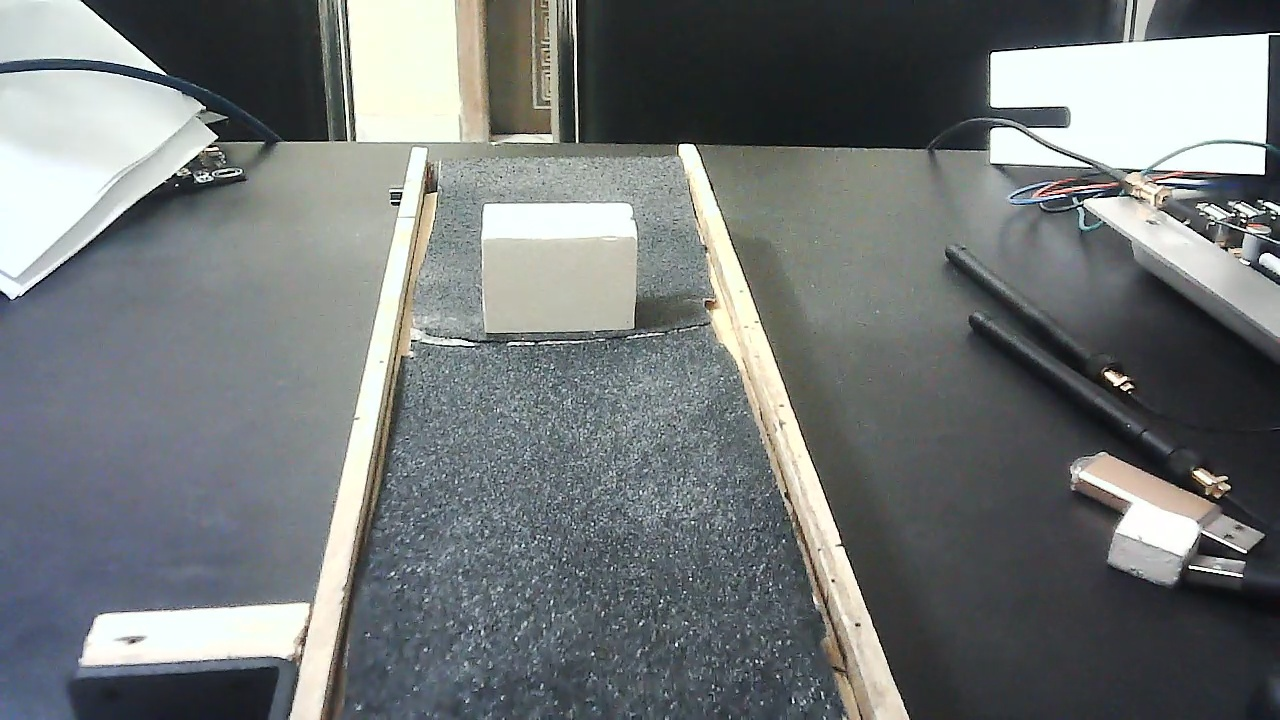BIG: (478, 190, 635, 347)
